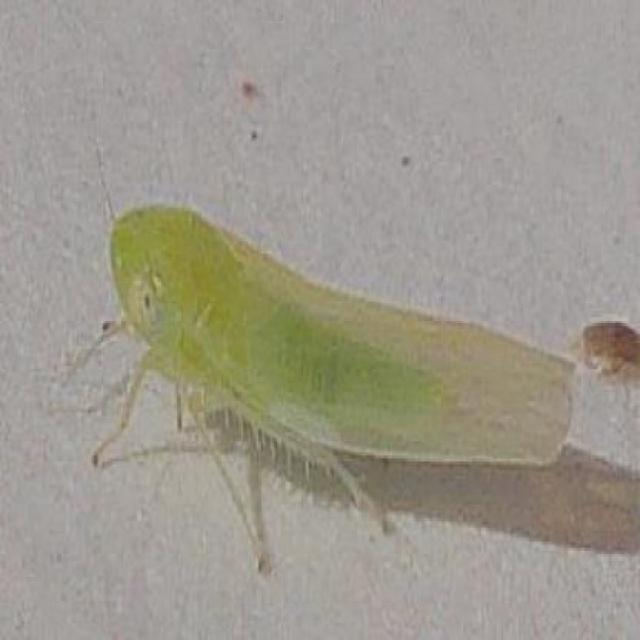green-leafhopper: (67, 202, 576, 574)
